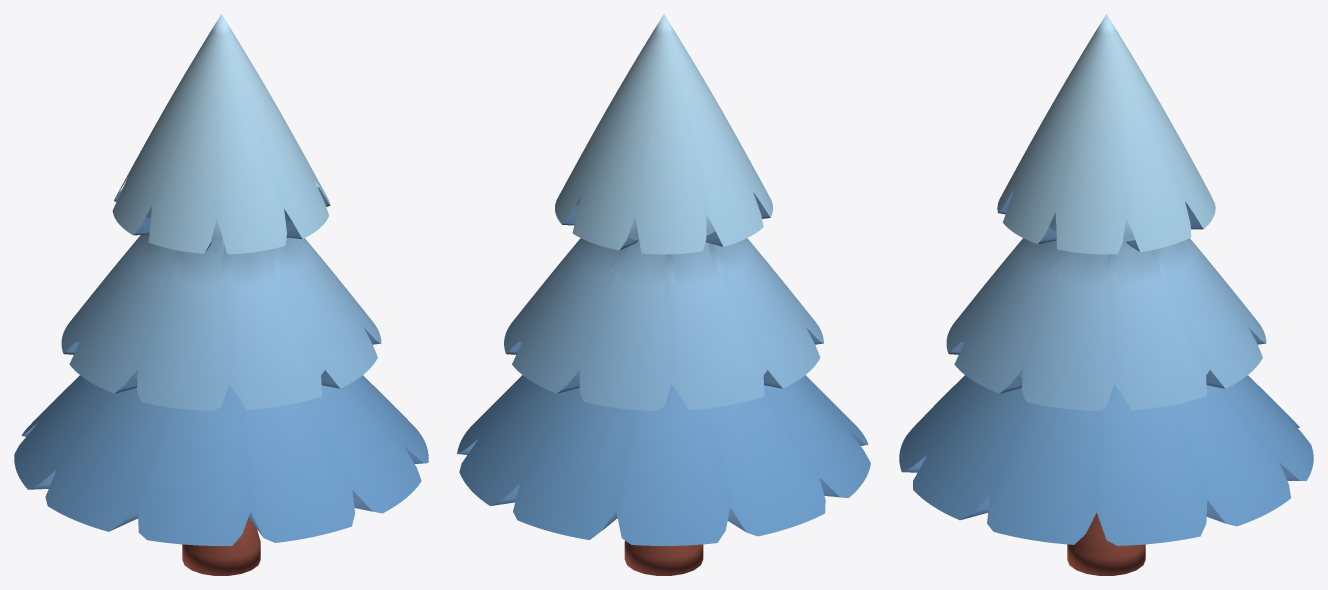
File: pine_3.glb
3 views of the same model, side by side, from view 1: azimuth 30°, elevation 25°; view 2: azimuth 150°, elevation 25°; view 3: azimuth 270°, elevation 25° (orthographic).
Visible parts, largest first — view 1: pine_3; view 2: pine_3; view 3: pine_3.
Part boxes in pixels (x1,y1,x2,y2): pine_3: (14, 14, 428, 575); pine_3: (457, 14, 870, 575); pine_3: (899, 14, 1313, 575).
Size of the model in its own units: 2.37 by 3.44 by 2.37.
Materials: 3 (3 with a texture image).
